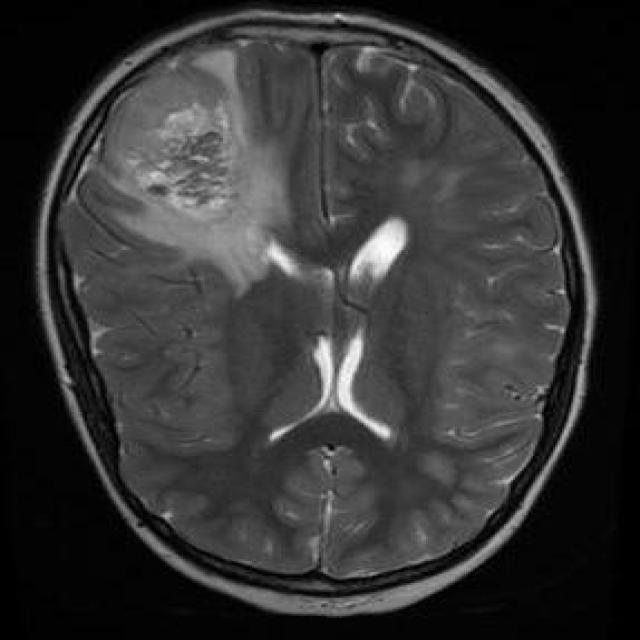Tumor-Cell: (117, 72, 296, 267)
